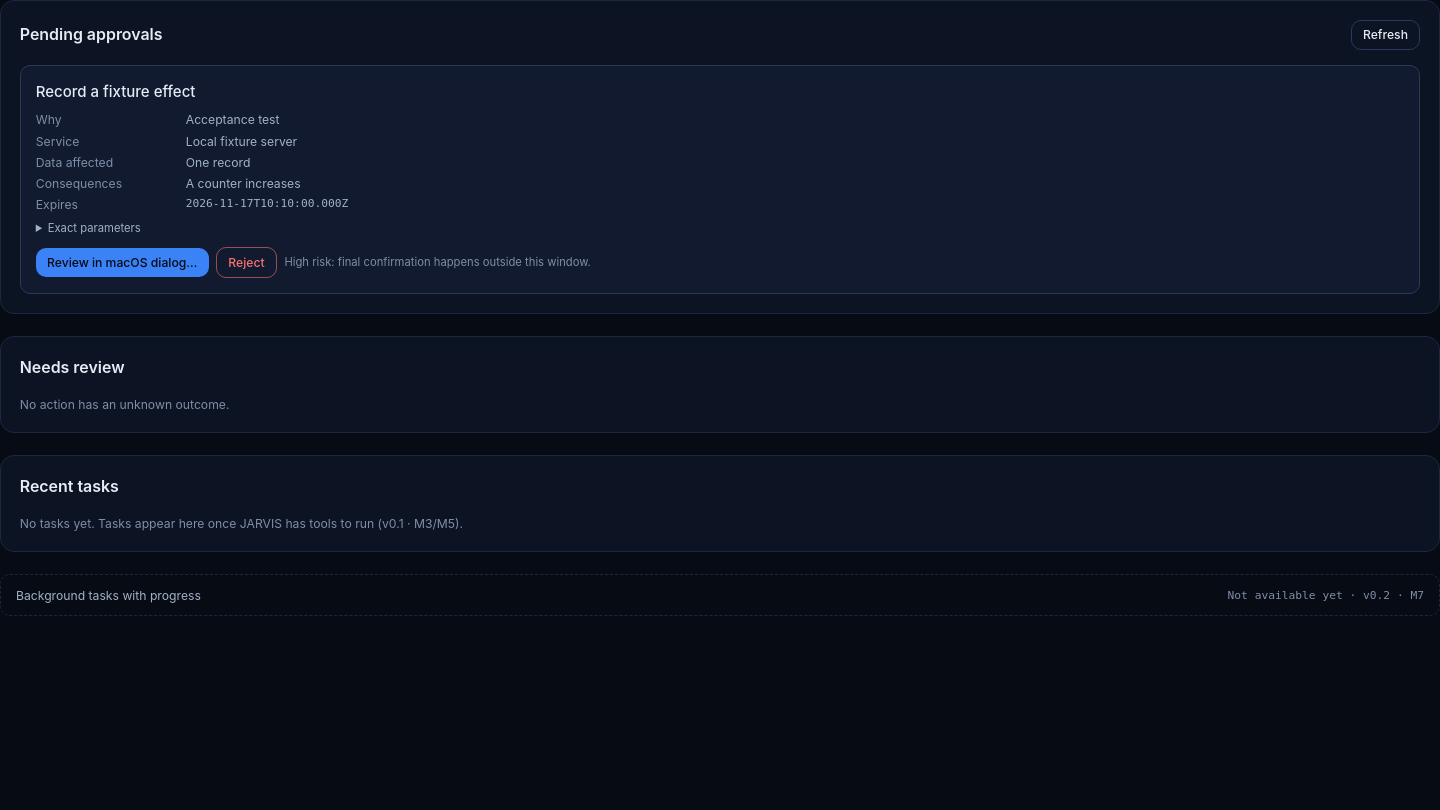
Test: Activity Center › routes highest-risk approvals through the native dialog only
This screenshot has width=1440, height=810.
Click the button "Review in macOS dialog…".
click(122, 263)  # box [36, 248, 209, 277]
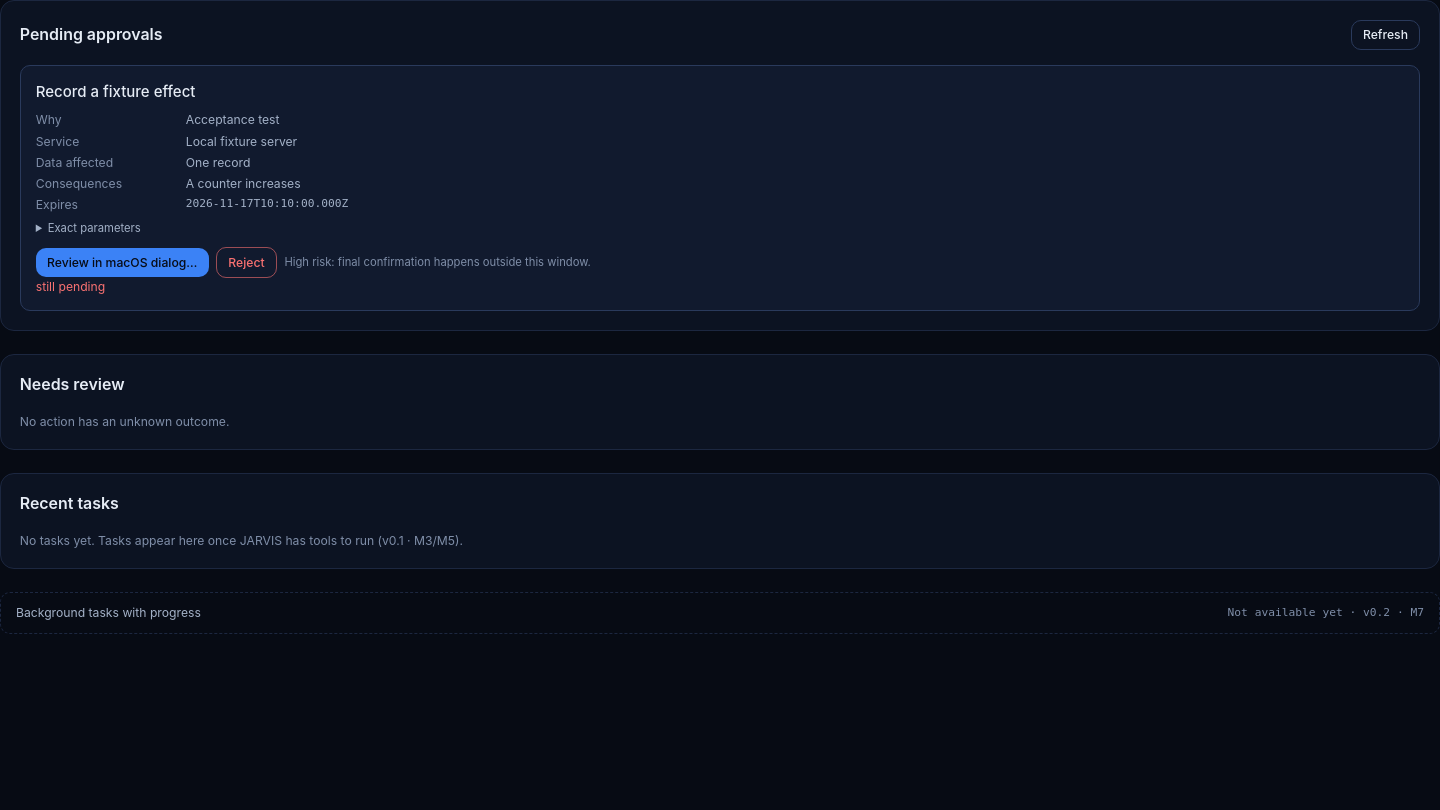
expect the message reads "still pending": met, box [36, 279, 105, 294]
Click the button "Review in macOS dialog…".
click(122, 263)  # box [36, 248, 209, 277]
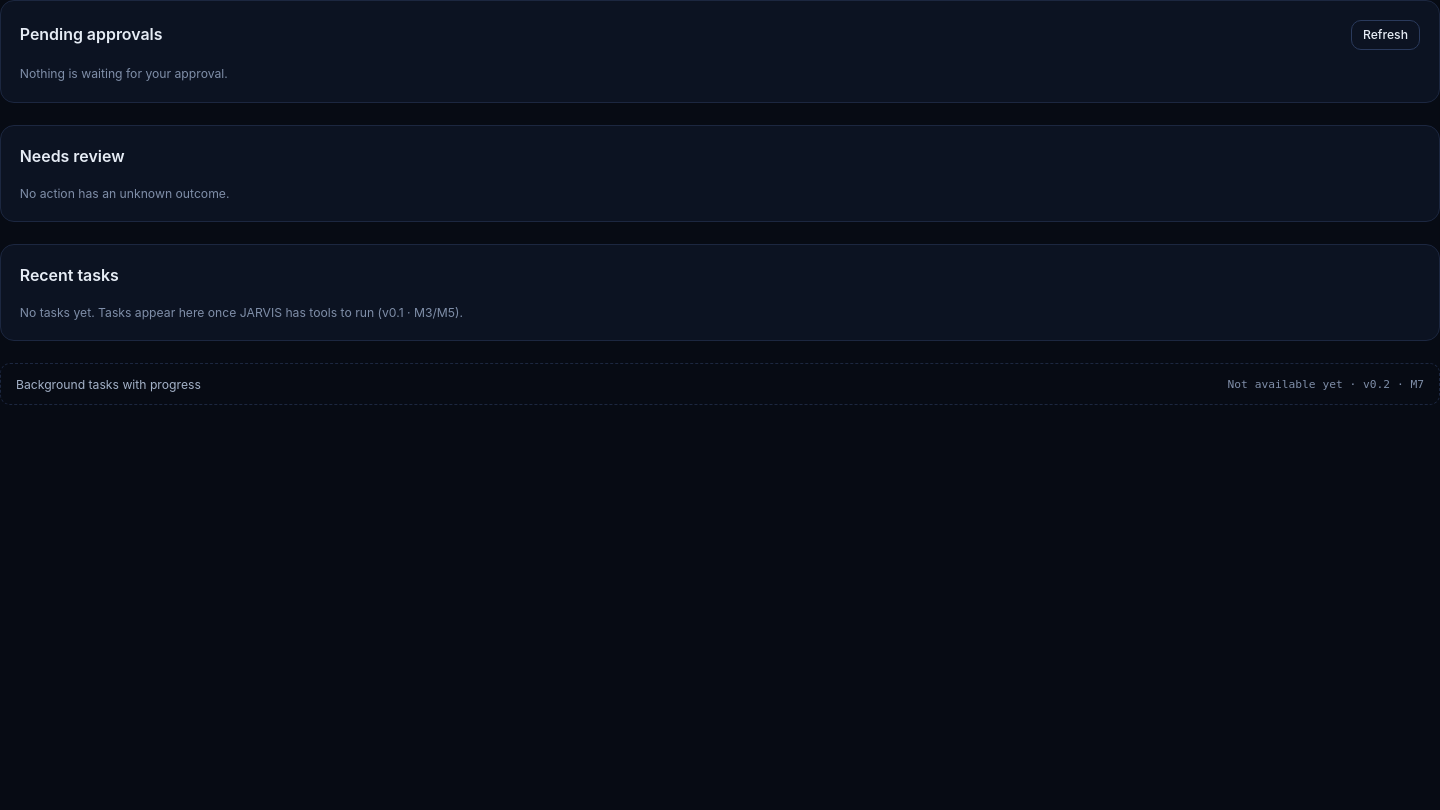
expect the text "Nothing is waiting for your approval." is shown: met, box [20, 66, 228, 81]
